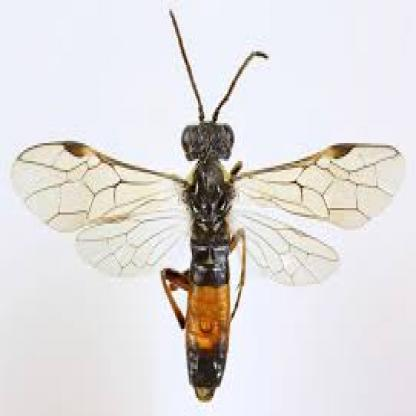sawfly: (12, 3, 411, 400)
